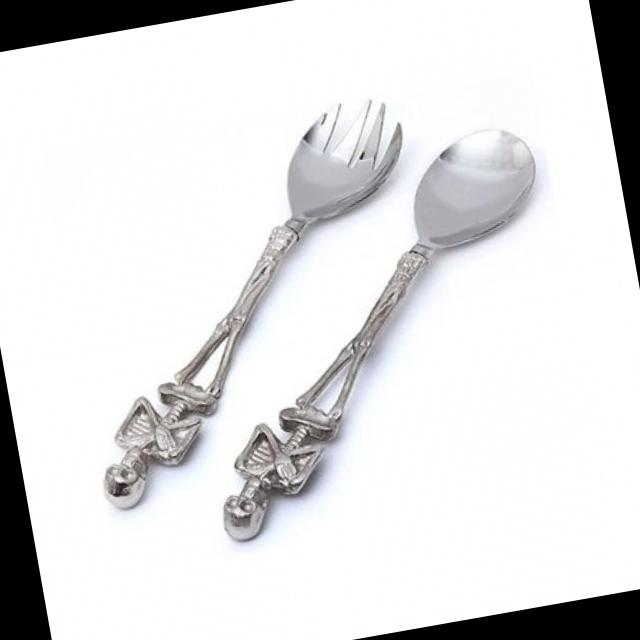fork: (91, 88, 417, 532)
spoon: (204, 119, 549, 565)
